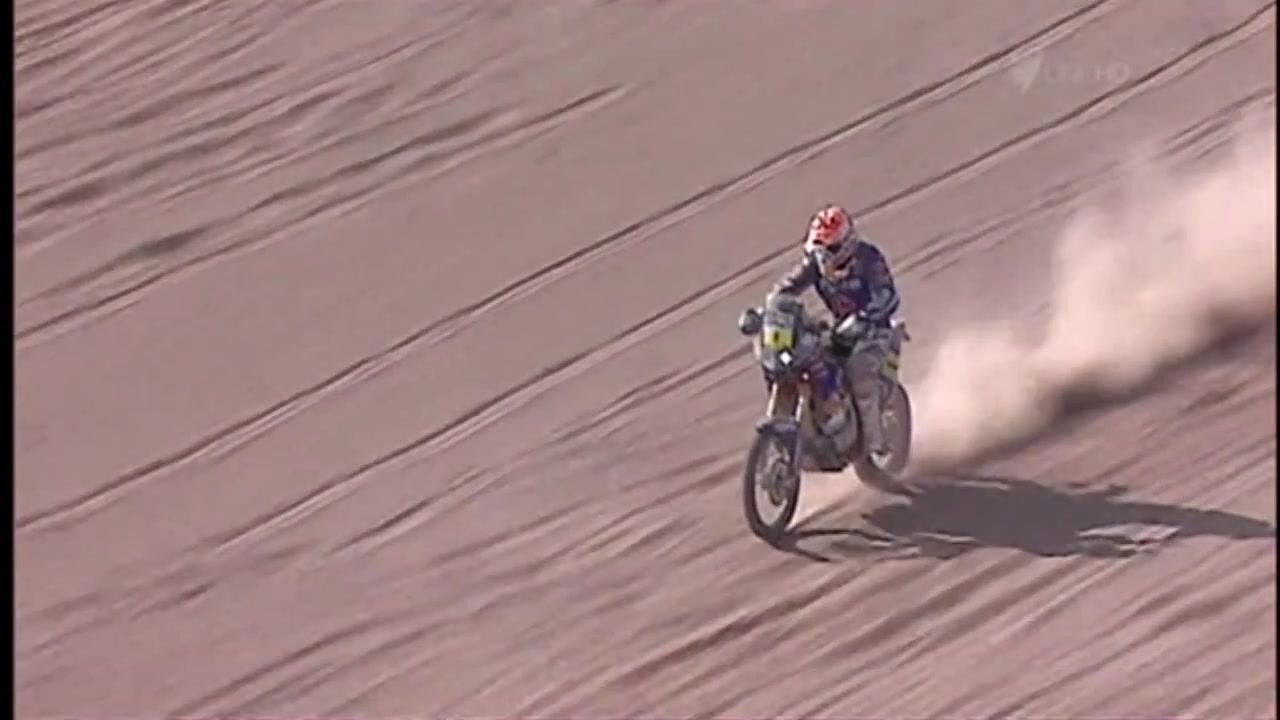motorbike: (736, 309, 917, 552)
